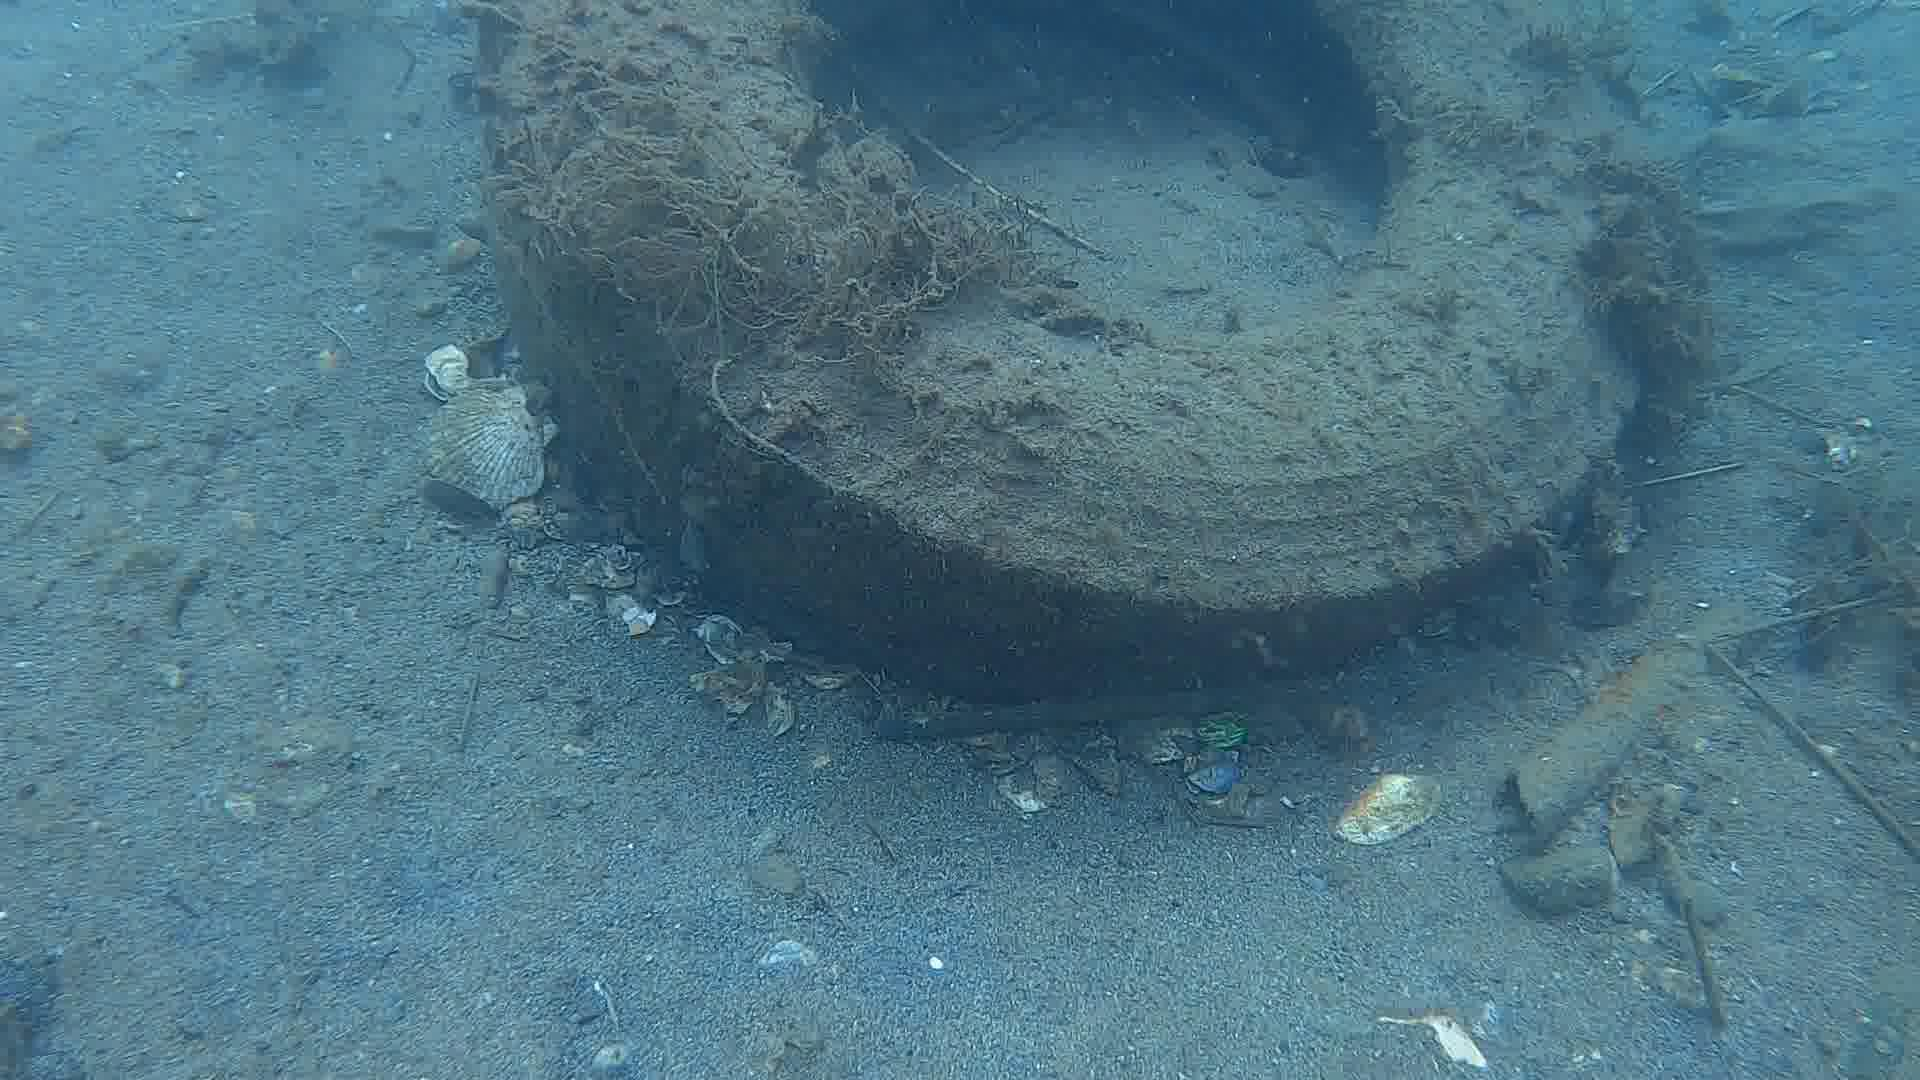tire: (492, 0, 1654, 705)
